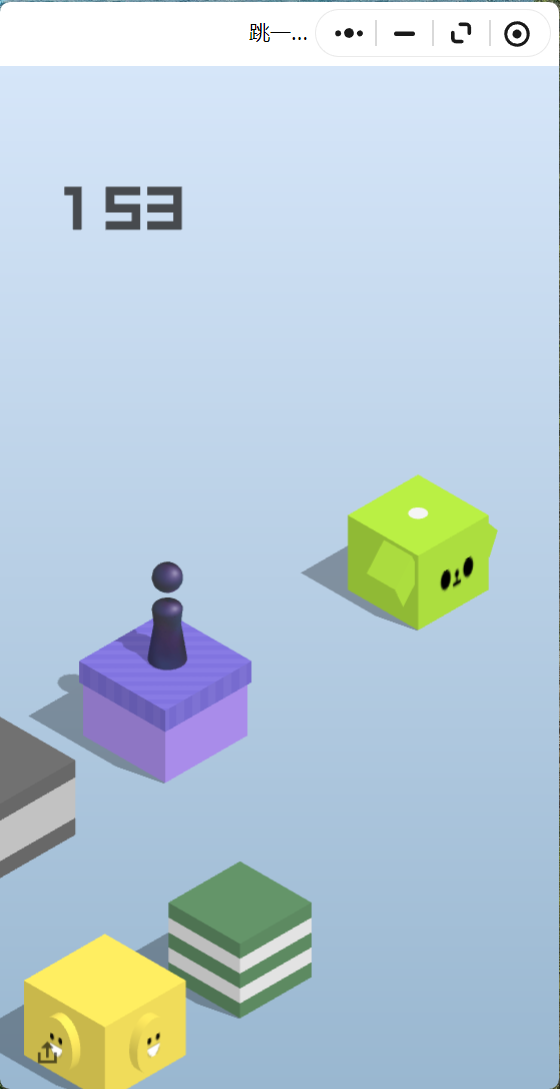piece: (152, 562, 182, 665)
target: (348, 474, 489, 555)
